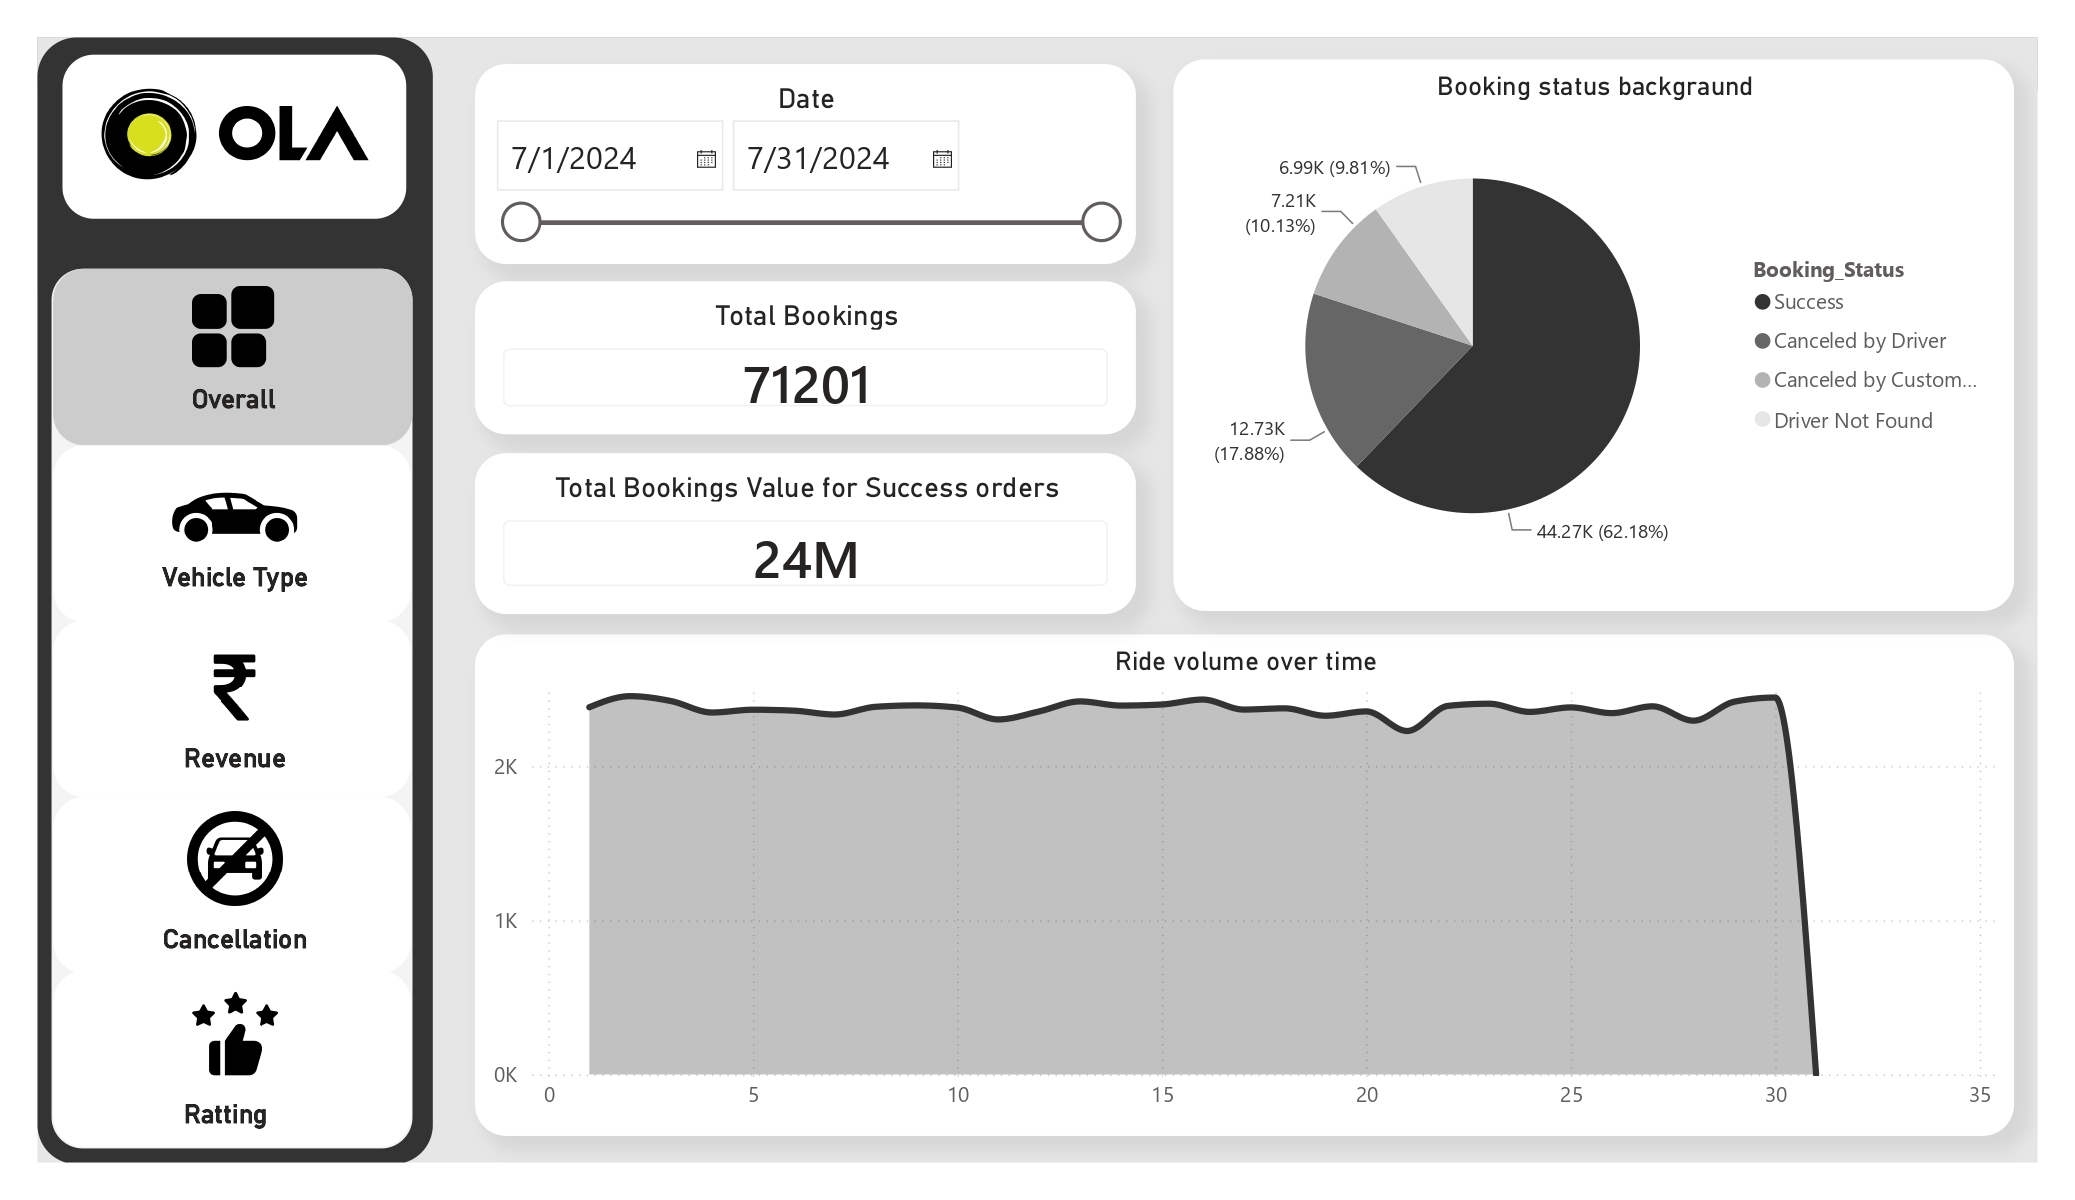

Layout of this report page (visuals, bound fields, positions):
{"tool":"powerbi","page":{"name":"Overall","canvas":[1280,720],"ordinal":0},"visuals":[{"type":"shape","box":[0,0,252.9,720.5],"z":0,"group":"g4"},{"type":"shape","box":[15.9,11.1,219.5,105],"z":0,"group":"g1"},{"type":"shape","box":[10,147.6,230,113.3],"z":0,"group":"g3"},{"type":"shape","box":[9.3,148,230.7,562.7],"z":0,"group":"g2"},{"type":"shape","box":[10.1,261.1,229.2,113.3],"z":0,"group":"g5"},{"type":"shape","box":[9.9,373.3,229.2,113.3],"z":0,"group":"g6"},{"type":"lineChart","title":"Ride volume over time","fields":{"Y":["CountNonNull(Ola_Bookings_July.Booking_ID)"],"Category":["Ola_Bookings_July.Date.Variation.Date Hierarchy.Day"]},"box":[279.9,381.7,984.6,321.3],"z":0},{"type":"shape","box":[9.9,485.6,229.2,113.3],"z":0,"group":"g7"},{"type":"shape","box":[10.2,597.3,229.2,113.3],"z":0,"group":"g8"},{"type":"group","id":"g1","title":"Group 1","box":[15.9,11.1,219.5,105],"z":1000,"group":"g4"},{"type":"pieChart","title":"Booking status backgraund","fields":{"Category":["Ola_Bookings_July.Booking_Status"],"Y":["CountNonNull(Ola_Bookings_July.Booking_Status)"]},"box":[726.9,14.3,537.6,353.1],"z":1000},{"type":"image","box":[39.8,18.3,173.4,87.7],"z":1000,"group":"g1"},{"type":"slicer","title":"Date","fields":{"Values":["Ola_Bookings_July.Date"]},"box":[279.9,17.5,423.1,127.2],"z":2000},{"type":"group","id":"g2","title":"Group 1","box":[9.3,148,230.7,562.7],"z":2000,"group":"g4"},{"type":"textbox","box":[13.3,215.8,224.7,41.3],"z":2000,"group":"g3"},{"type":"textbox","box":[11.9,330.4,229.2,38.1],"z":2000,"group":"g5"},{"type":"textbox","box":[11.7,446.8,229.2,38.1],"z":2000,"group":"g6"},{"type":"textbox","box":[11.7,561.5,229.2,38.1],"z":2000,"group":"g7"},{"type":"textbox","box":[6,674,229.2,38.1],"z":2000,"group":"g8"},{"type":"image","box":[77.8,154.3,94.4,60],"z":2500,"group":"g3"},{"type":"image","title":"Overall","box":[29.9,264.8,192.2,84.4],"z":2500,"group":"g5"},{"type":"image","box":[86.8,390.6,77.8,52.2],"z":2500,"group":"g6"},{"type":"image","box":[56.7,494.9,138.9,61.1],"z":2500,"group":"g7"},{"type":"image","box":[66,605.8,121.1,63.3],"z":2500,"group":"g8"},{"type":"cardVisual","title":"Total Bookings","fields":{"Data":["Count(Ola_Bookings_July.Booking_ID)"]},"box":[279.9,155.9,423.1,98.6],"z":3000},{"type":"group","id":"g3","title":"Overall","box":[10,147.6,230,113.3],"z":4000,"group":"g4"},{"type":"cardVisual","title":"Total Bookings Value for Success orders","fields":{"Data":["Sum(Ola_Bookings_July.Booking_Value)"]},"box":[279.9,265.6,423.1,103.4],"z":4000},{"type":"group","id":"g4","title":"Group 2","box":[0,0,252.9,720.5],"z":5000},{"type":"group","id":"g5","title":"Vehicle type","box":[10.1,261.1,231,113.3],"z":9000,"group":"g4"},{"type":"group","id":"g6","title":"Revenue","box":[9.9,373.3,231,113.3],"z":10000,"group":"g4"},{"type":"group","id":"g7","title":"cancellation","box":[9.9,485.6,231,114],"z":11000,"group":"g4"},{"type":"group","id":"g8","title":"rating","box":[6,597.3,233.3,114.8],"z":12000,"group":"g4"}]}

Visuals, with their boxes on the page's 1280x720 design canvas (x1, y1, x2, y2). These are canvas units, not pixel positions in the 2075x1200 screenshot, which may show the page scaled, cropped or inside an application window:
shape: [x1=0, y1=0, x2=253, y2=720]
shape: [x1=16, y1=11, x2=235, y2=116]
shape: [x1=10, y1=148, x2=240, y2=261]
shape: [x1=9, y1=148, x2=240, y2=711]
shape: [x1=10, y1=261, x2=239, y2=374]
shape: [x1=10, y1=373, x2=239, y2=487]
"Ride volume over time" lineChart: [x1=280, y1=382, x2=1264, y2=703]
shape: [x1=10, y1=486, x2=239, y2=599]
shape: [x1=10, y1=597, x2=239, y2=711]
"Group 1" group: [x1=16, y1=11, x2=235, y2=116]
"Booking status backgraund" pieChart: [x1=727, y1=14, x2=1264, y2=367]
image: [x1=40, y1=18, x2=213, y2=106]
"Date" slicer: [x1=280, y1=18, x2=703, y2=145]
"Group 1" group: [x1=9, y1=148, x2=240, y2=711]
textbox: [x1=13, y1=216, x2=238, y2=257]
textbox: [x1=12, y1=330, x2=241, y2=368]
textbox: [x1=12, y1=447, x2=241, y2=485]
textbox: [x1=12, y1=562, x2=241, y2=600]
textbox: [x1=6, y1=674, x2=235, y2=712]
image: [x1=78, y1=154, x2=172, y2=214]
"Overall" image: [x1=30, y1=265, x2=222, y2=349]
image: [x1=87, y1=391, x2=165, y2=443]
image: [x1=57, y1=495, x2=196, y2=556]
image: [x1=66, y1=606, x2=187, y2=669]
"Total Bookings" cardVisual: [x1=280, y1=156, x2=703, y2=254]
"Overall" group: [x1=10, y1=148, x2=240, y2=261]
"Total Bookings Value for Success orders" cardVisual: [x1=280, y1=266, x2=703, y2=369]
"Group 2" group: [x1=0, y1=0, x2=253, y2=720]
"Vehicle type" group: [x1=10, y1=261, x2=241, y2=374]
"Revenue" group: [x1=10, y1=373, x2=241, y2=487]
"cancellation" group: [x1=10, y1=486, x2=241, y2=600]
"rating" group: [x1=6, y1=597, x2=239, y2=712]
